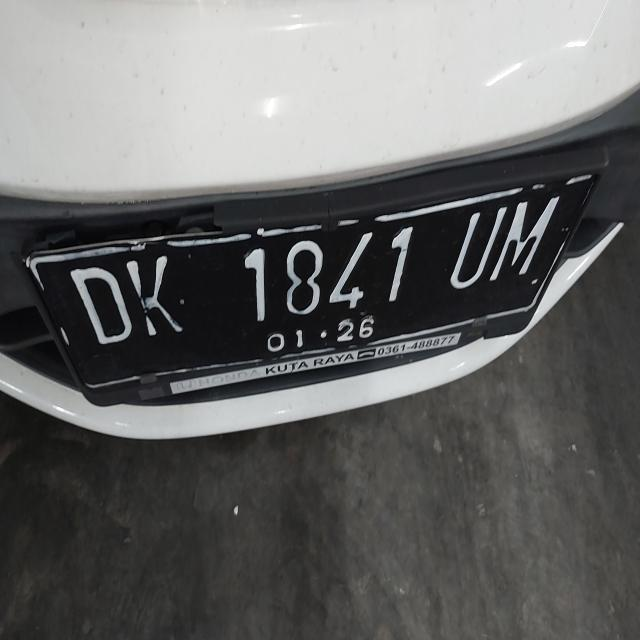1: (231, 230, 275, 338), (382, 205, 414, 318)
4: (327, 209, 376, 321)
8: (278, 225, 330, 338)
D: (67, 246, 135, 376)
K: (122, 234, 196, 347)
M: (491, 174, 562, 294)
U: (450, 186, 510, 300)
